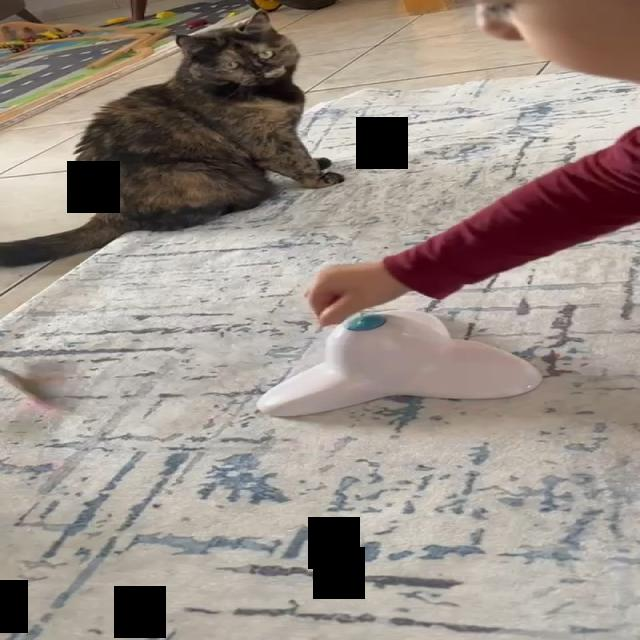authorized: (0, 8, 344, 267)
